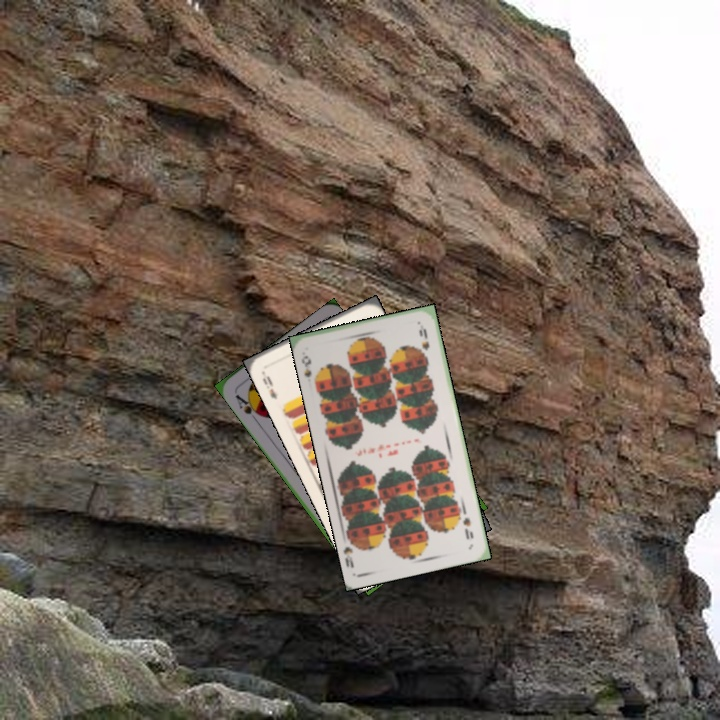E9: (258, 367, 280, 402)
S9: (297, 351, 322, 388), (456, 506, 476, 542)
SA: (231, 390, 264, 424)
